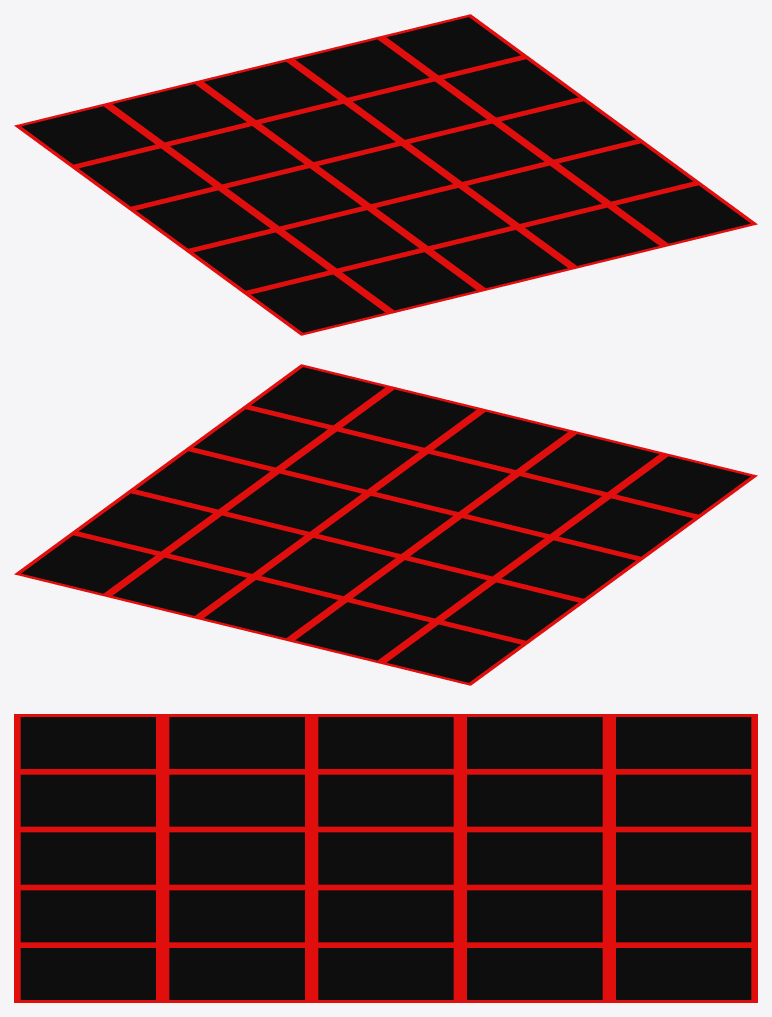
The model's file is Grid Floor.FBX.
3 views of the same model, one above another, from view 1: azimuth 30°, elevation 25°; view 2: azimuth 150°, elevation 25°; view 3: azimuth 270°, elevation 25° (orthographic). The views are drawn at different scales.
Parts seen in each view (by area): view 1: Grid Floor; view 2: Grid Floor; view 3: Grid Floor.
Part boxes in pixels (box(x1,y1,x2,y2)): Grid Floor: box(14, 14, 757, 335); Grid Floor: box(14, 364, 757, 685); Grid Floor: box(14, 714, 757, 1002).
Bounding box in the file's own units: 878 × 5.68e-14 × 957.
